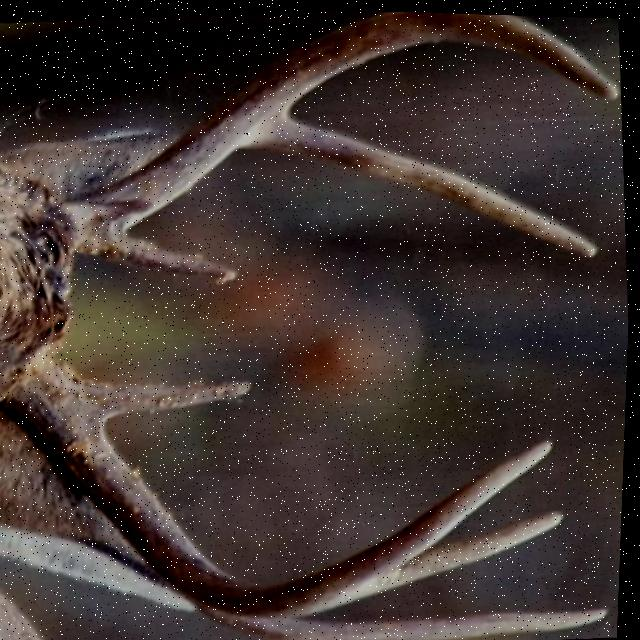L-F: (59, 9, 622, 250)
L-G1: (93, 230, 241, 284)
L-G2: (252, 111, 602, 253)
R-F: (0, 353, 556, 615)
R-G1: (90, 377, 255, 419)
R-G2: (183, 587, 613, 640)
R-G3: (389, 507, 568, 585)
